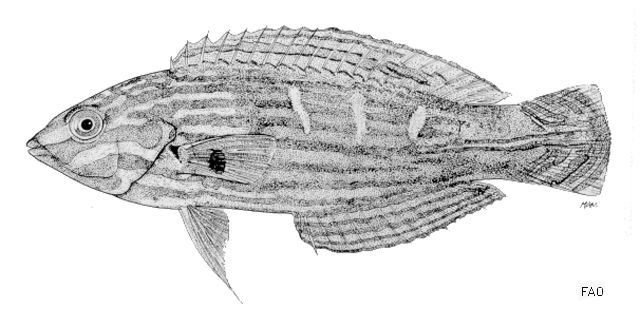fish: (26, 23, 612, 305)
